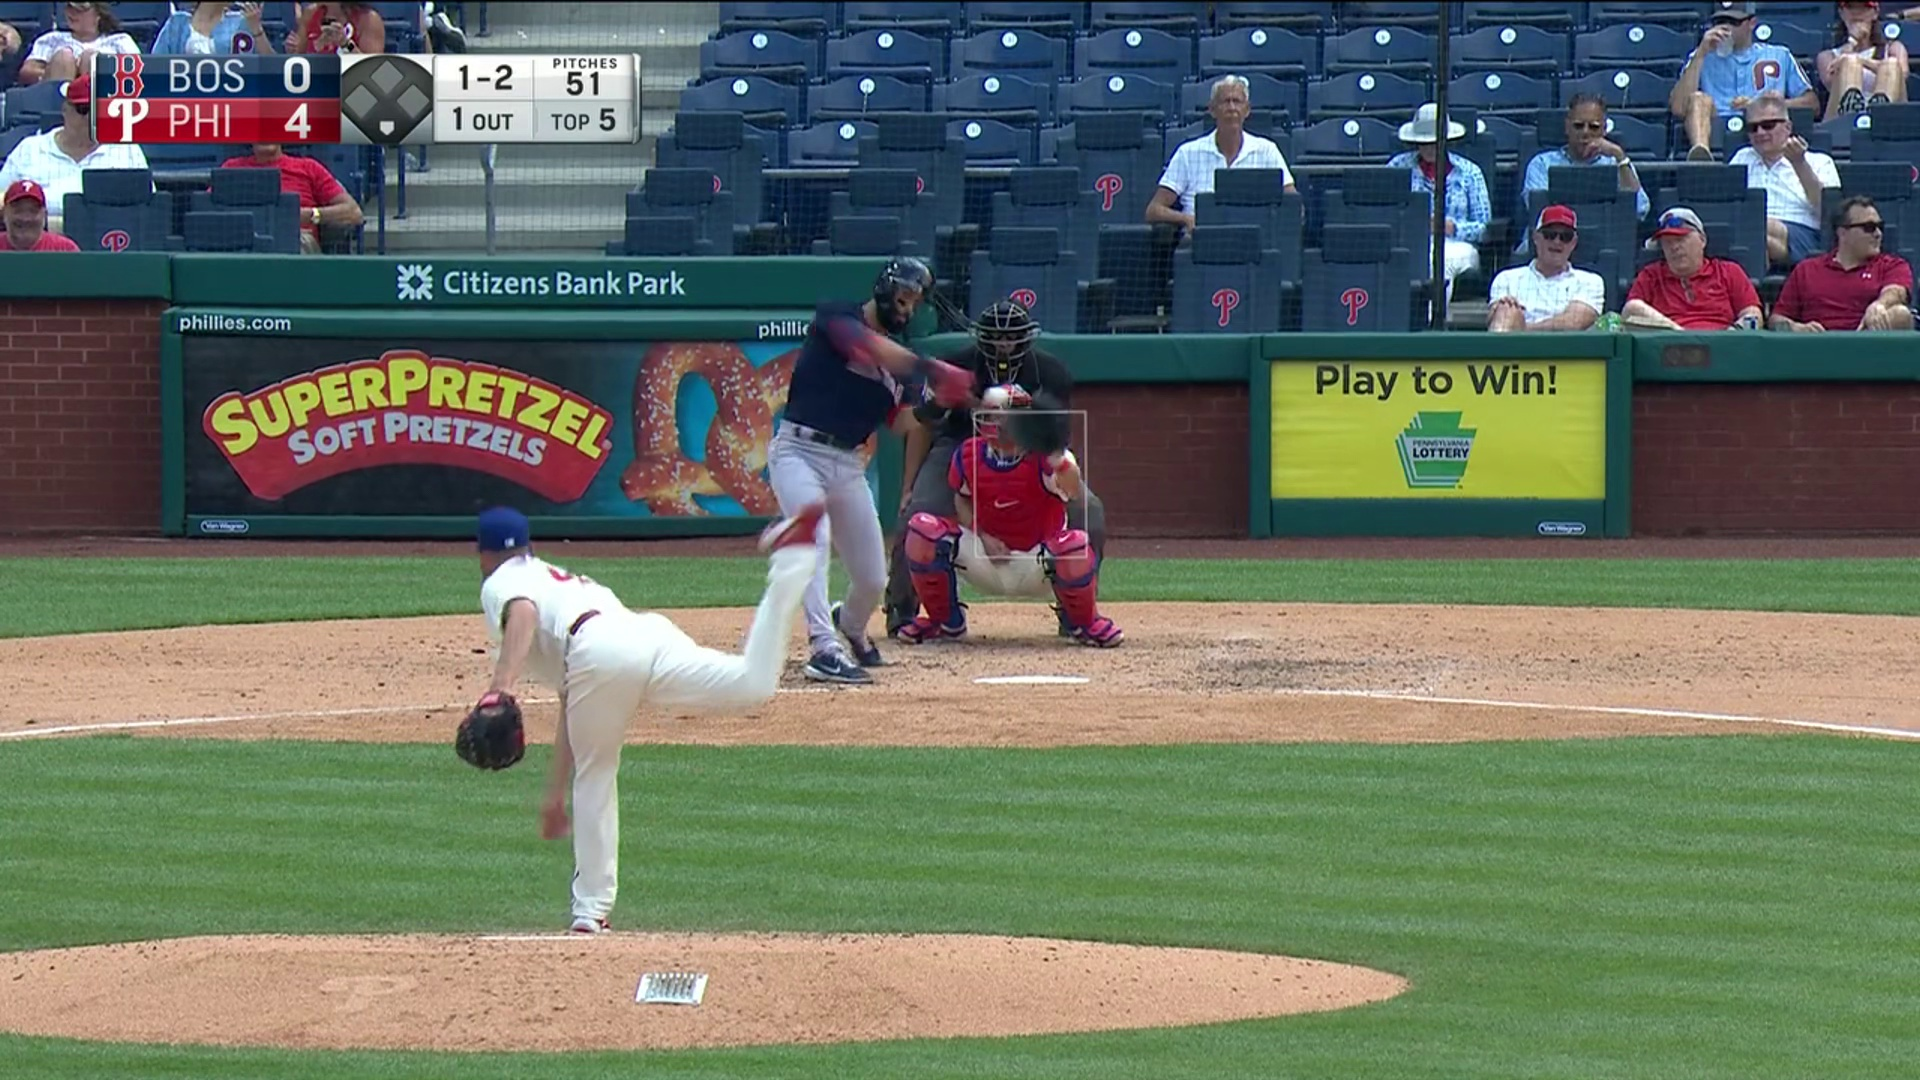baseball: (982, 386, 1007, 405)
